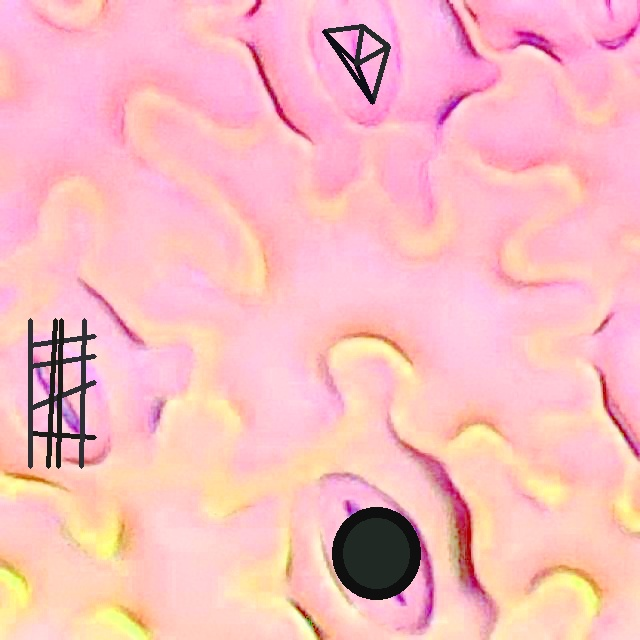close: (322, 25, 389, 104)
open: (28, 318, 96, 468), (332, 507, 421, 599)
